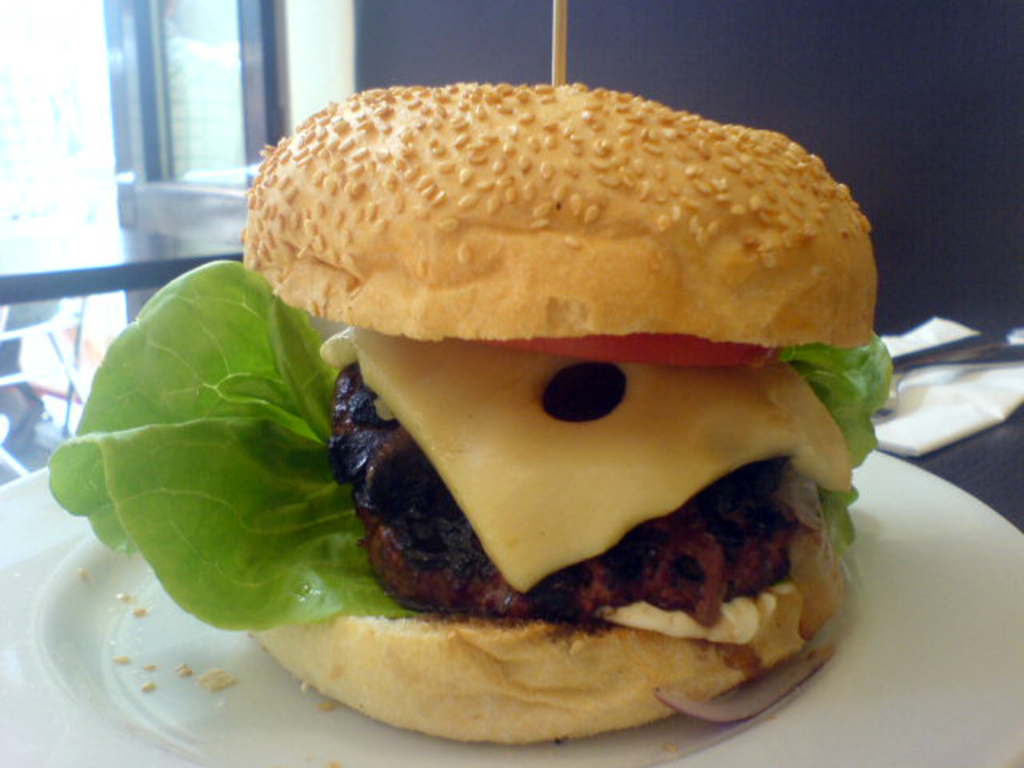Hamburger: (41, 86, 891, 737)
